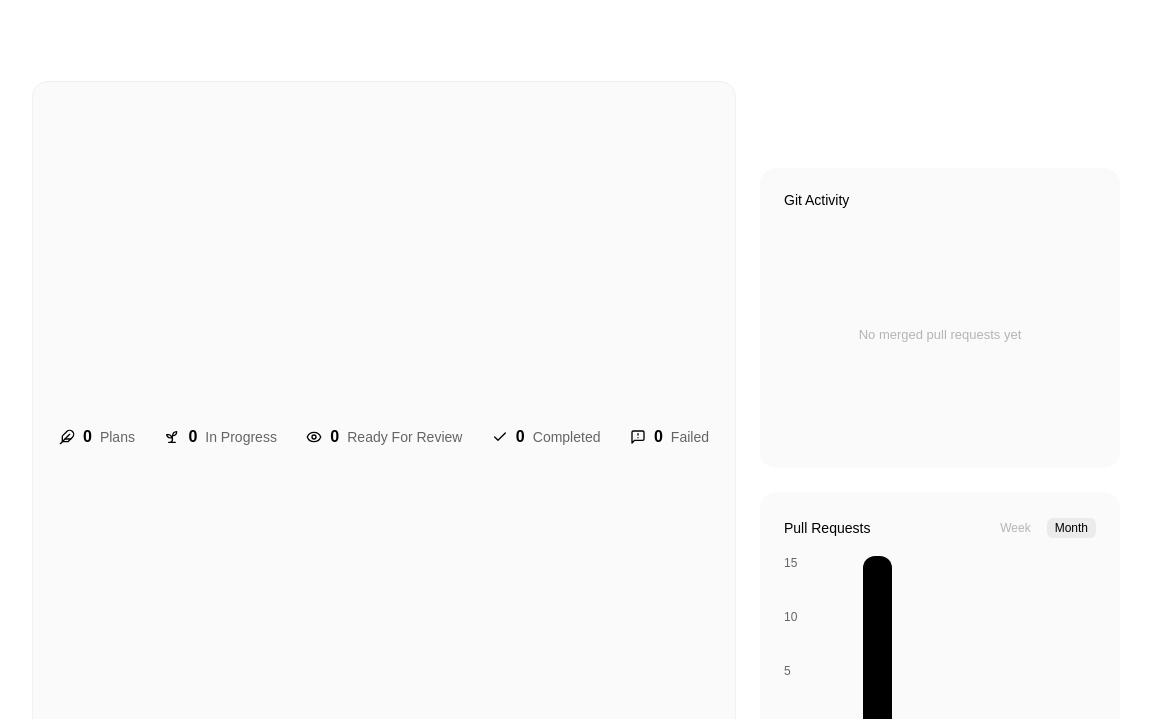
it: TendrilDashboard pull requests week/month toggle › renders bars with proper aria-label incorporating structured date fields
The image size is (1152, 719).
Click the button "Week". click: (1015, 528)
box: x1=992 y1=518 x2=1039 y2=538
(page scrolled)
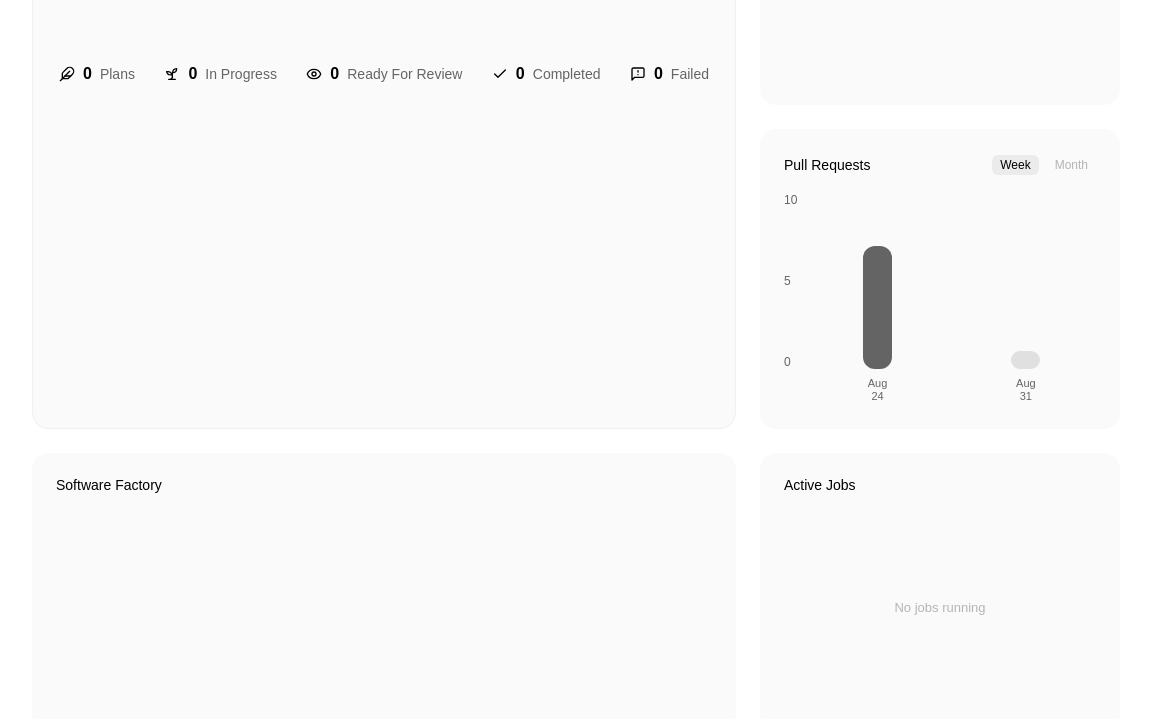
Expected: the picture named "Week of August 24, 2026: 7 pull requests merged" is shown, x1=863 y1=246 x2=892 y2=369
Expected: the picture named "Week of August 31, 2026: 1 pull request merged" is shown, x1=1011 y1=351 x2=1040 y2=369
